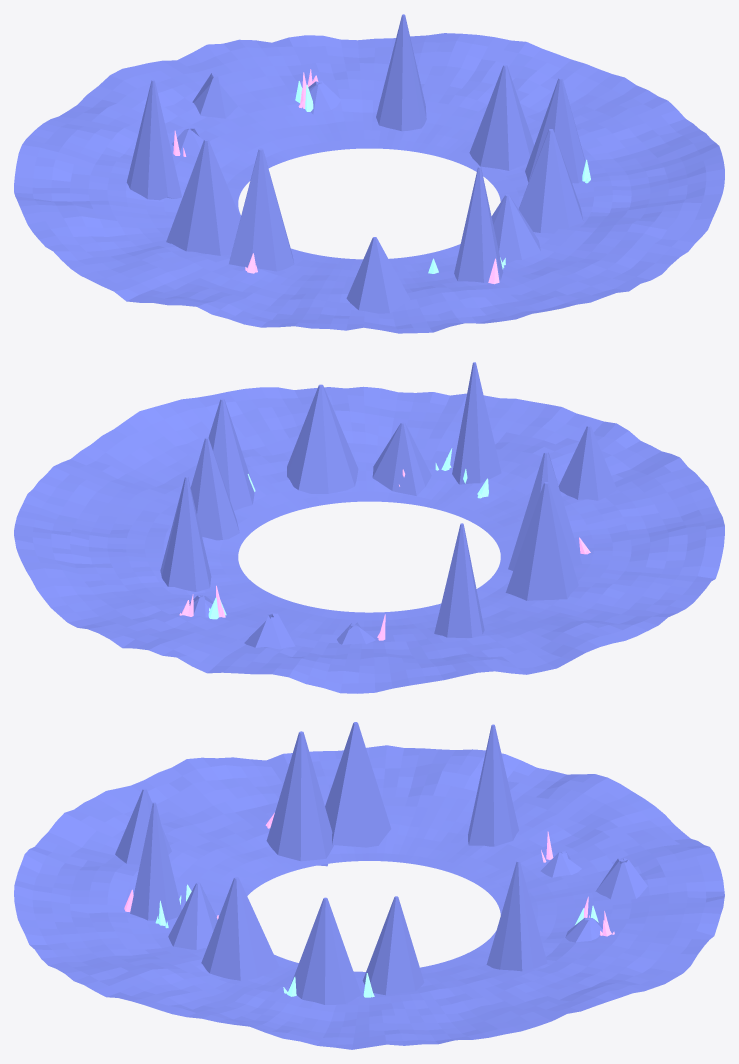
The model's file is landscape_survivor.glb.
The picture shows the model from 3 angles, top to bottom: view 1: azimuth 30°, elevation 25°; view 2: azimuth 150°, elevation 25°; view 3: azimuth 270°, elevation 25°; orthographic projection.
Visible parts, largest first — view 1: rock, crystal_pink, crystal_cyan; view 2: rock, crystal_pink, crystal_cyan; view 3: rock, crystal_cyan, crystal_pink.
Boxes of the visible parts, x1,y1,x2,y2 form: rock: (14,14,724,333); crystal_pink: (173,69,499,284); crystal_cyan: (295,81,590,273); rock: (14,362,724,693); crystal_pink: (179,469,590,640); crystal_cyan: (208,448,488,619); rock: (14,722,724,1049); crystal_cyan: (155,884,598,997); crystal_pink: (124,812,614,936).
Bounding box in the file's own units: 520 × 98.52 × 520.
